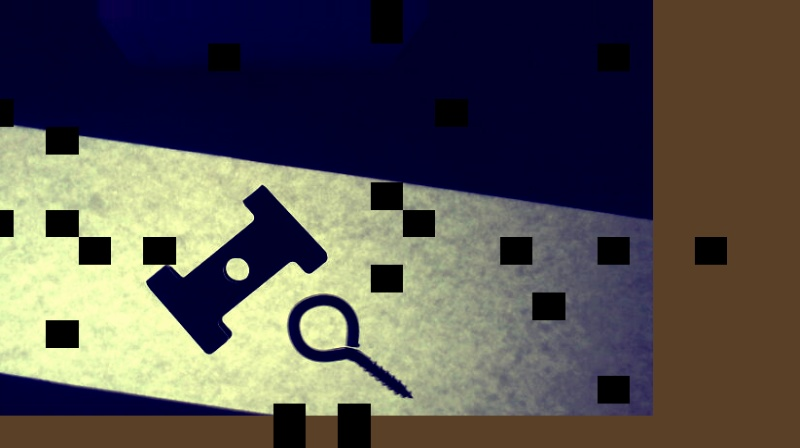O001: (284, 292, 418, 399)
O002: (137, 181, 328, 355)
